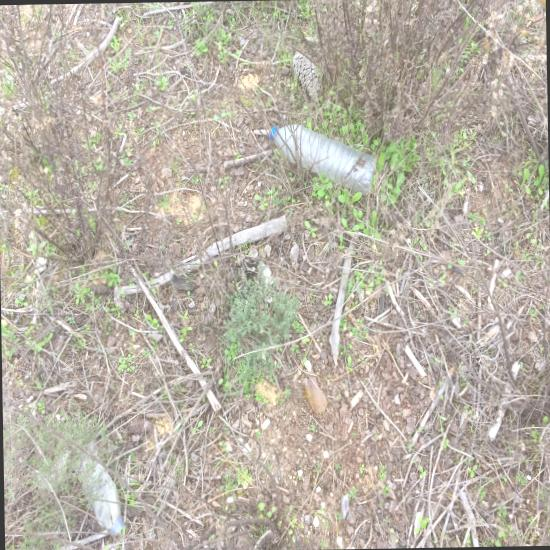Clear plastic bottle: (270, 123, 376, 195), (78, 455, 125, 535)
